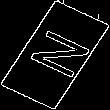N_SE: (17, 25, 93, 85)
